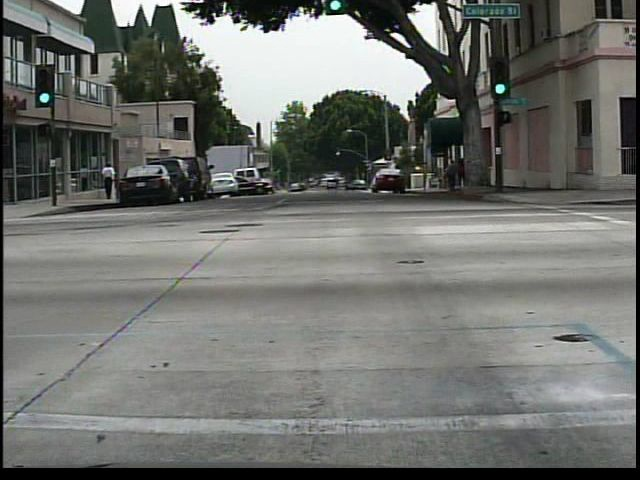person: (451, 151, 476, 199), (100, 154, 120, 200), (442, 159, 460, 193)
